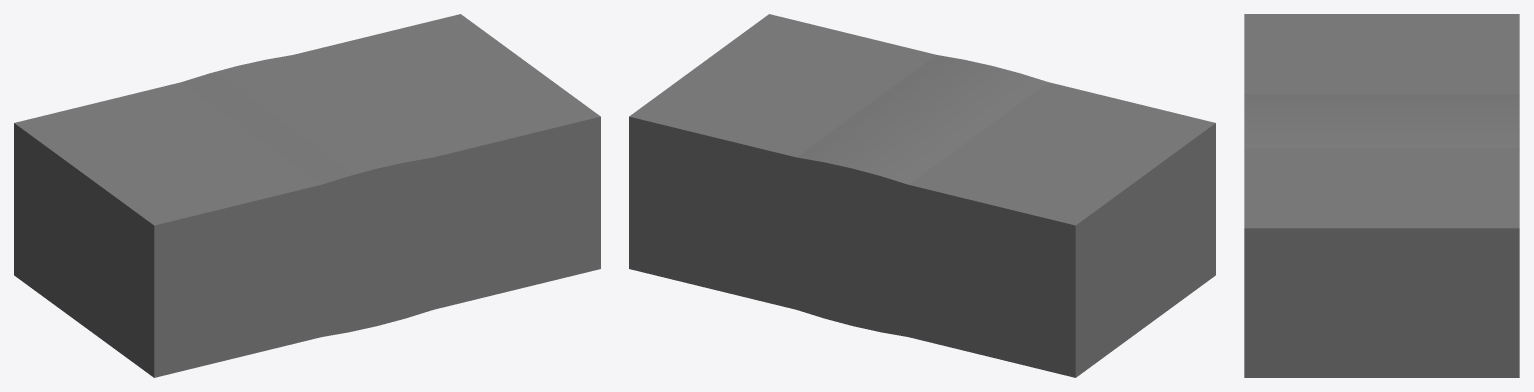
3 views of the same model, side by side, from view 1: azimuth 30°, elevation 25°; view 2: azimuth 150°, elevation 25°; view 3: azimuth 270°, elevation 25° (orthographic).
Visible parts, largest first — view 1: mesh_id4, mesh_id5; view 2: mesh_id4, mesh_id5; view 3: mesh_id4, mesh_id5.
Part boxes in pixels (x1,y1,x2,y2): mesh_id4: (14,14,600,377); mesh_id5: (182,55,433,336); mesh_id4: (629,14,1215,377); mesh_id5: (796,55,1047,336); mesh_id4: (1244,14,1519,377); mesh_id5: (1244,94,1519,147).
Size of the model in its own units: 0.512 by 0.1725 by 0.2783.
Materials: 2 (2 with a texture image).
